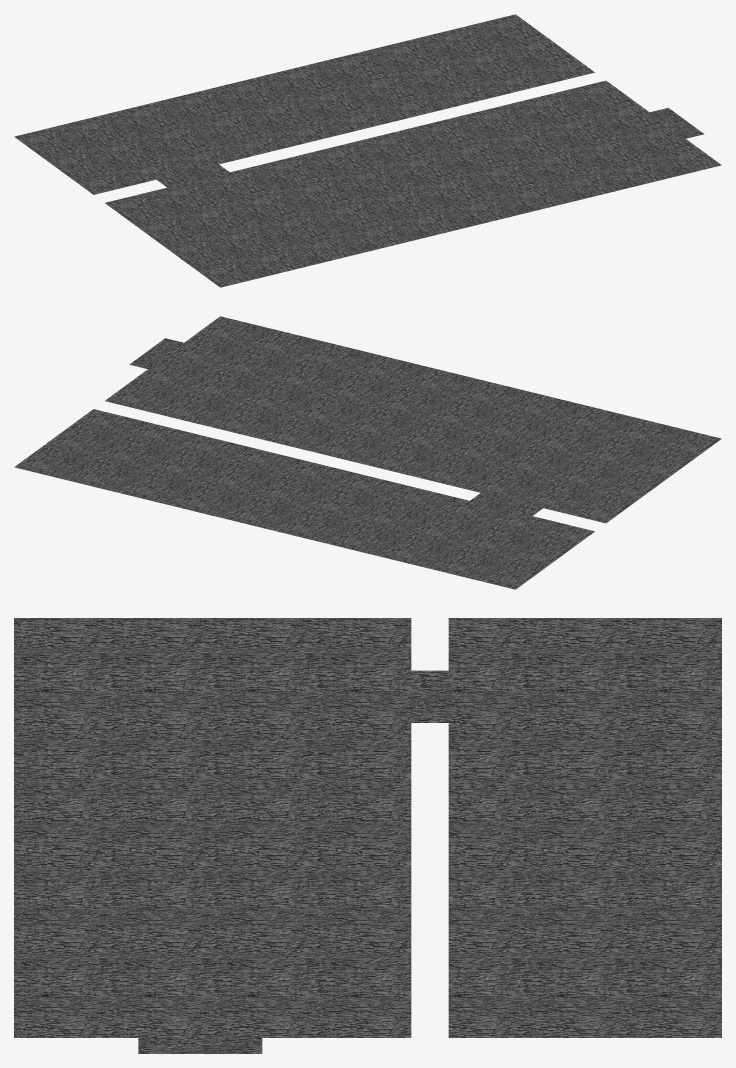
File: floor.obj
The picture shows the model from 3 angles, top to bottom: view 1: azimuth 30°, elevation 25°; view 2: azimuth 150°, elevation 25°; view 3: azimuth 270°, elevation 25°; orthographic projection. The views are drawn at different scales.
Parts seen in each view (by area): view 1: Plane.047; view 2: Plane.047; view 3: Plane.047.
Boxes of the visible parts, <box> form: Plane.047: <box>14,14,721,287</box>; Plane.047: <box>14,316,721,589</box>; Plane.047: <box>14,618,721,1053</box>.
Size of the model in its own units: 16.6 by 0 by 11.4.
Materials: 1 (1 with a texture image).
